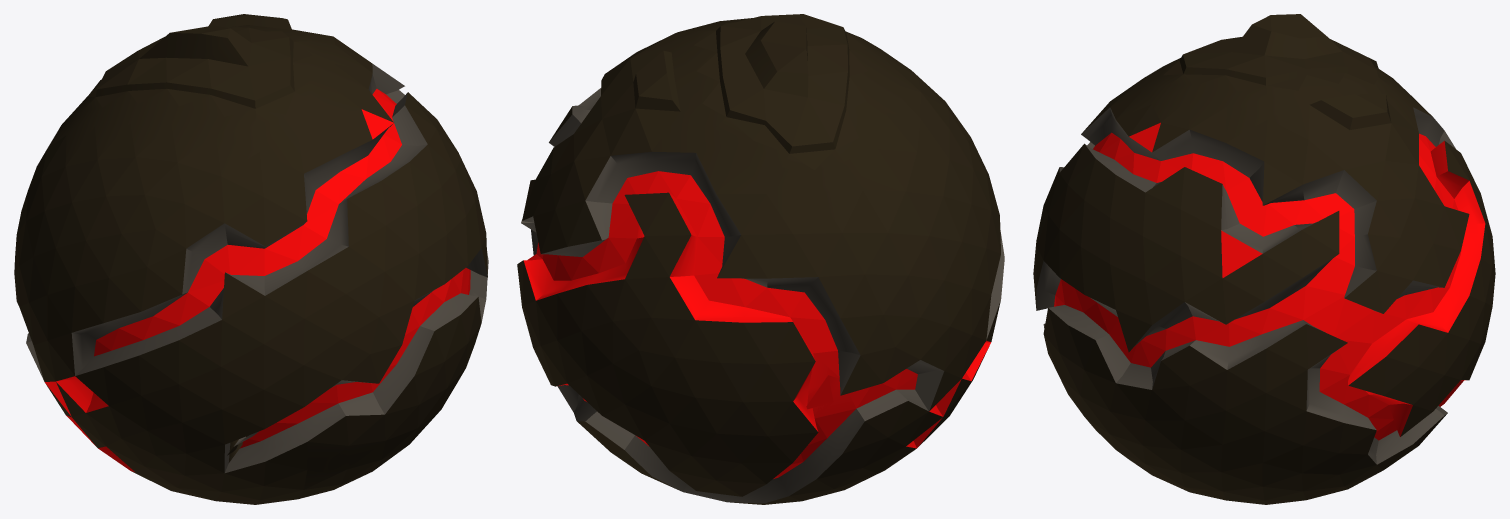
Rendered from Mdl_Planet3.fbx.
3 renders of one model, left to right at view 1: azimuth 30°, elevation 25°; view 2: azimuth 150°, elevation 25°; view 3: azimuth 270°, elevation 25°, orthographic. The views are drawn at different scales.
Parts seen in each view (by area): view 1: pPlatonic1; view 2: pPlatonic1; view 3: pPlatonic1.
Part boxes in pixels (left/top/right/bottom): pPlatonic1: left=14, top=14, right=488, bottom=504; pPlatonic1: left=517, top=14, right=1004, bottom=504; pPlatonic1: left=1033, top=14, right=1495, bottom=504.
Bounding box in the file's own units: 1.99 × 2.13 × 2.
